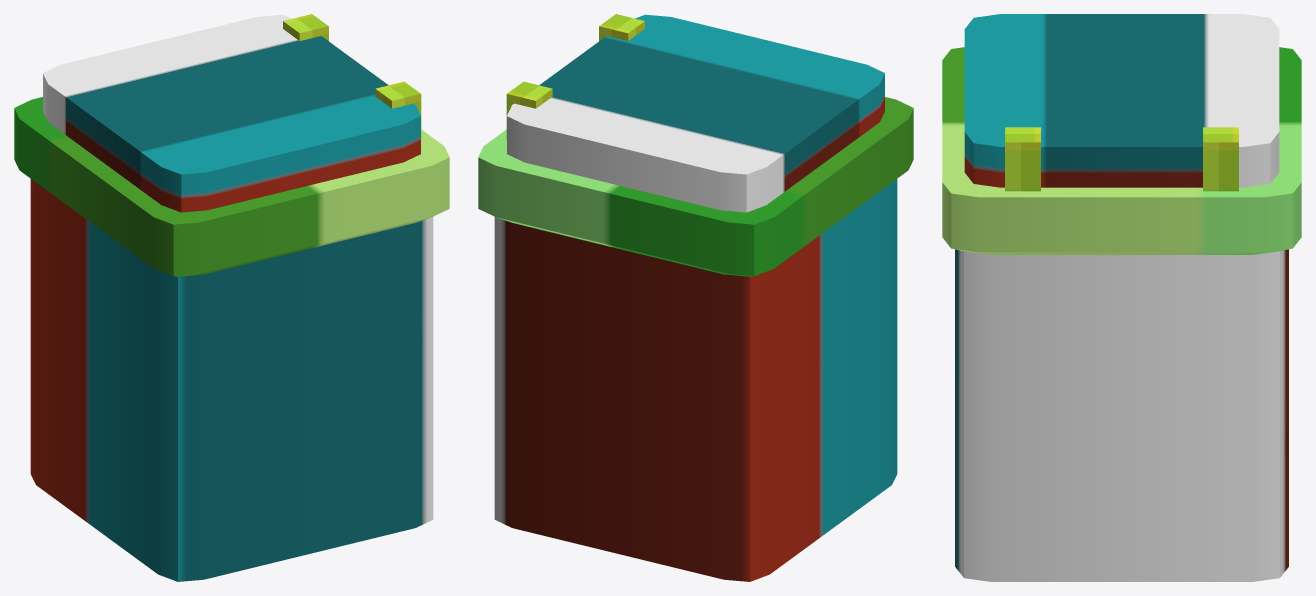
File: Trash_Bin.fbx
3 views of the same model, side by side, from view 1: azimuth 30°, elevation 25°; view 2: azimuth 150°, elevation 25°; view 3: azimuth 270°, elevation 25° (orthographic). The views are drawn at different scales.
Visible parts, largest first — view 1: Trash_Bin; view 2: Trash_Bin; view 3: Trash_Bin.
Part boxes in pixels (x1=…): Trash_Bin: x1=14, y1=14, x2=449, y2=581; Trash_Bin: x1=478, y1=14, x2=913, y2=581; Trash_Bin: x1=942, y1=14, x2=1301, y2=581.
Size of the model in its own units: 40 by 53.92 by 40.
